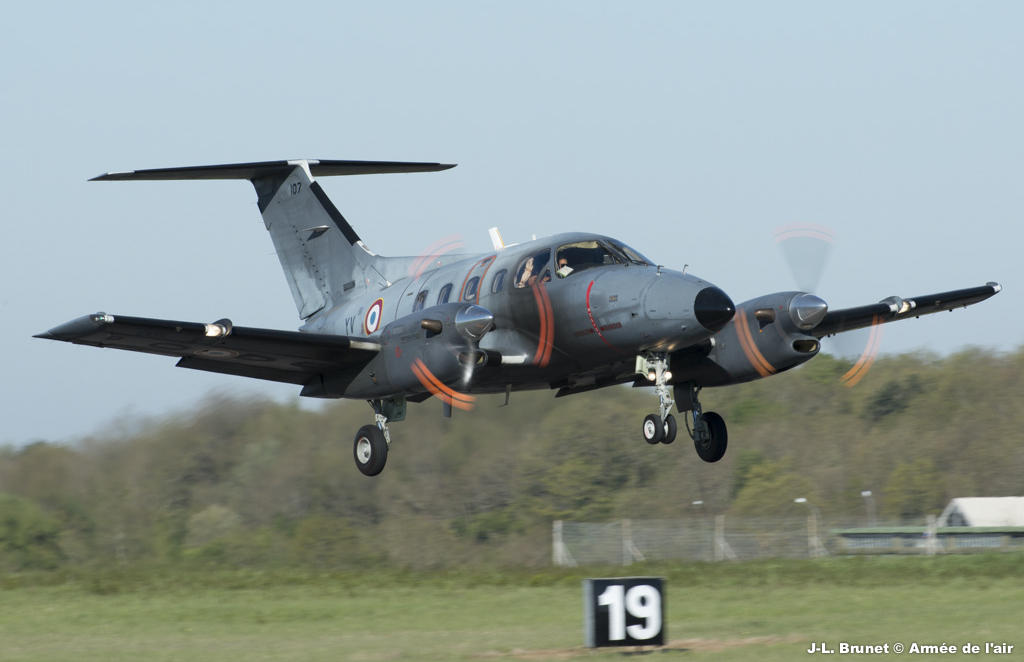Aeronef_militaire: (23, 137, 1019, 473)
